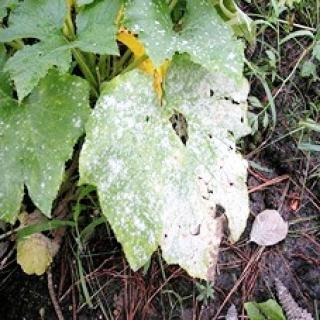grey mildew: (86, 65, 246, 277), (125, 5, 242, 72)
